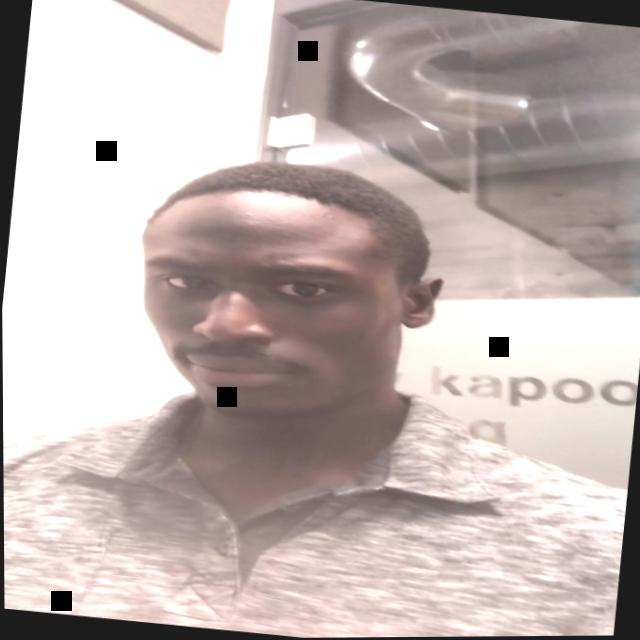NO-Mask: (132, 180, 437, 439)
